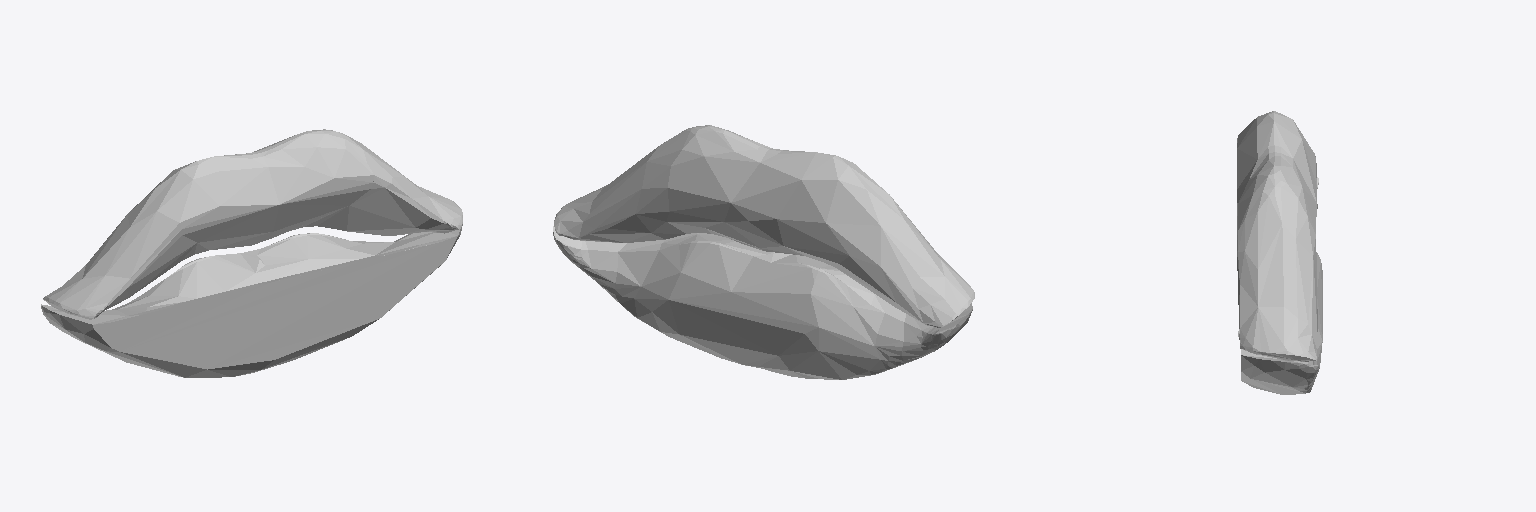
The model's file is bonusH.obj.
3 renders of one model, left to right at view 1: azimuth 30°, elevation 25°; view 2: azimuth 150°, elevation 25°; view 3: azimuth 270°, elevation 25°, orthographic.
Visible parts, largest first — view 1: Plane003, Object001; view 2: Object001, Plane003; view 3: Object001, Plane003.
Boxes of the visible parts, <box> form: Plane003: <box>41,222,462,377</box>; Object001: <box>43,129,462,319</box>; Object001: <box>554,125,974,327</box>; Plane003: <box>553,226,972,379</box>; Object001: <box>1237,111,1317,361</box>; Plane003: <box>1241,177,1322,394</box>.
Size of the model in its own units: 331 by 175 by 61.04.